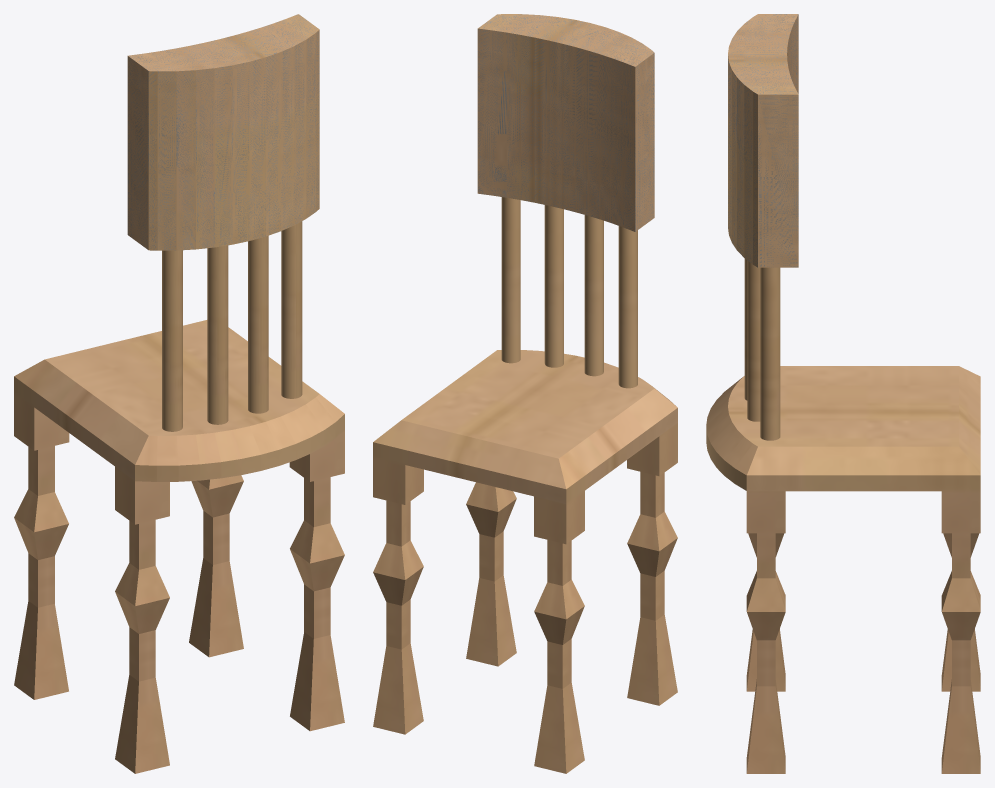
3 renders of one model, left to right at view 1: azimuth 30°, elevation 25°; view 2: azimuth 150°, elevation 25°; view 3: azimuth 270°, elevation 25°, orthographic. The views are drawn at different scales.
Visible parts, largest first — view 1: mesh4_mesh4-geometry, mesh6_mesh6-geometry, mesh3_mesh3-geometry, mesh1_mesh1-geometry; view 2: mesh6_mesh6-geometry, mesh4_mesh4-geometry, mesh3_mesh3-geometry, mesh1_mesh1-geometry; view 3: mesh3_mesh3-geometry, mesh6_mesh6-geometry, mesh4_mesh4-geometry, mesh1_mesh1-geometry.
Boxes of the visible parts, box(x1,y1,x2,y2) form: mesh4_mesh4-geometry: box(127, 14, 319, 250); mesh6_mesh6-geometry: box(14, 393, 344, 773); mesh3_mesh3-geometry: box(14, 320, 344, 481); mesh1_mesh1-geometry: box(162, 221, 302, 431); mesh6_mesh6-geometry: box(373, 423, 677, 773); mesh4_mesh4-geometry: box(477, 14, 654, 231); mesh3_mesh3-geometry: box(373, 350, 677, 504); mesh1_mesh1-geometry: box(501, 197, 637, 388); mesh3_mesh3-geometry: box(706, 366, 980, 491); mesh6_mesh6-geometry: box(746, 491, 980, 773); mesh4_mesh4-geometry: box(728, 14, 798, 267); mesh1_mesh1-geometry: box(744, 258, 780, 440).
Size of the model in its own units: 0.2844 by 0.8987 by 0.3337.
